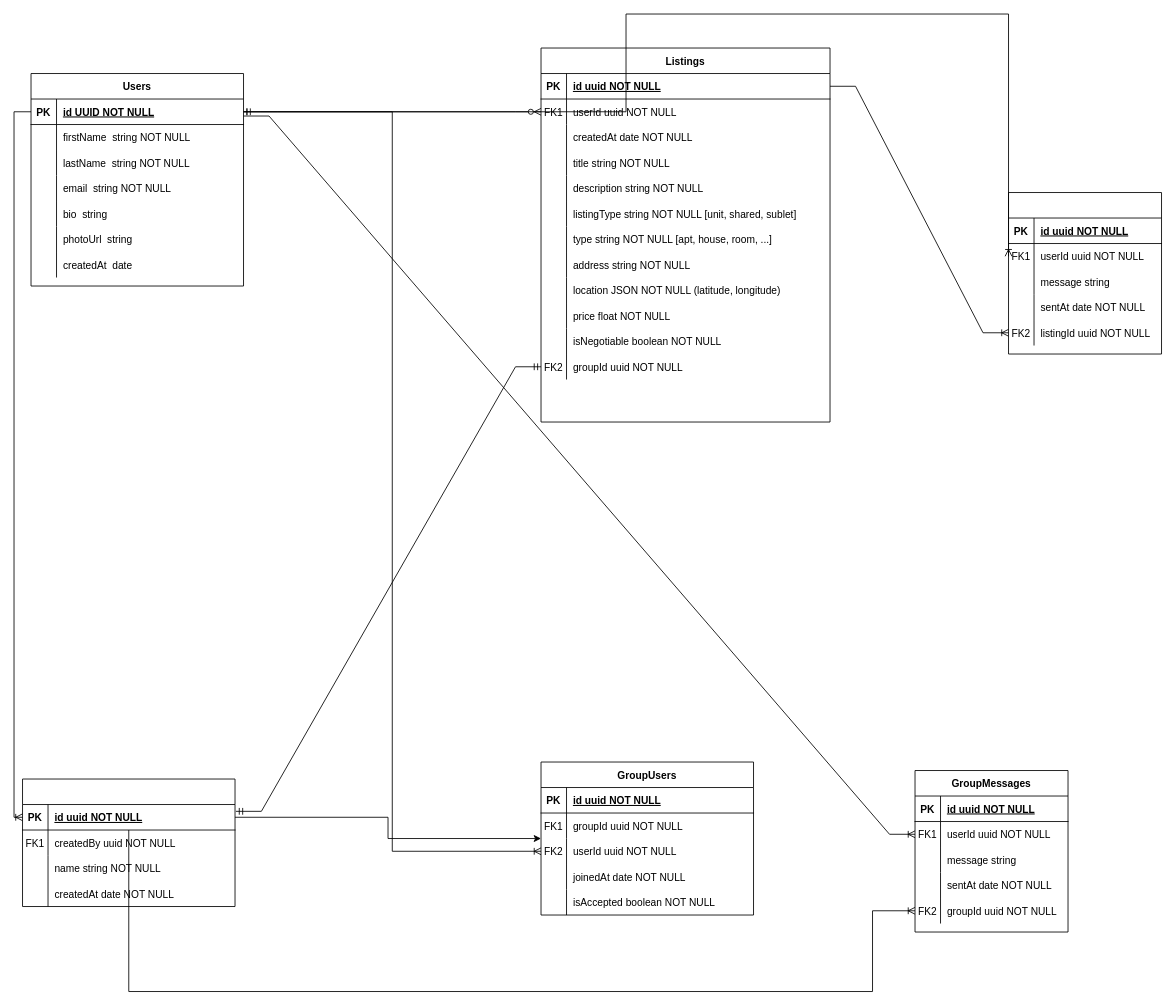
Some shapes in this 1176 by 1006 pixel diagram are drawn without their labels. Each missing label, with the box of its shape:
Groups: (22, 778, 235, 907)
ListingMessages: (1008, 192, 1162, 354)
